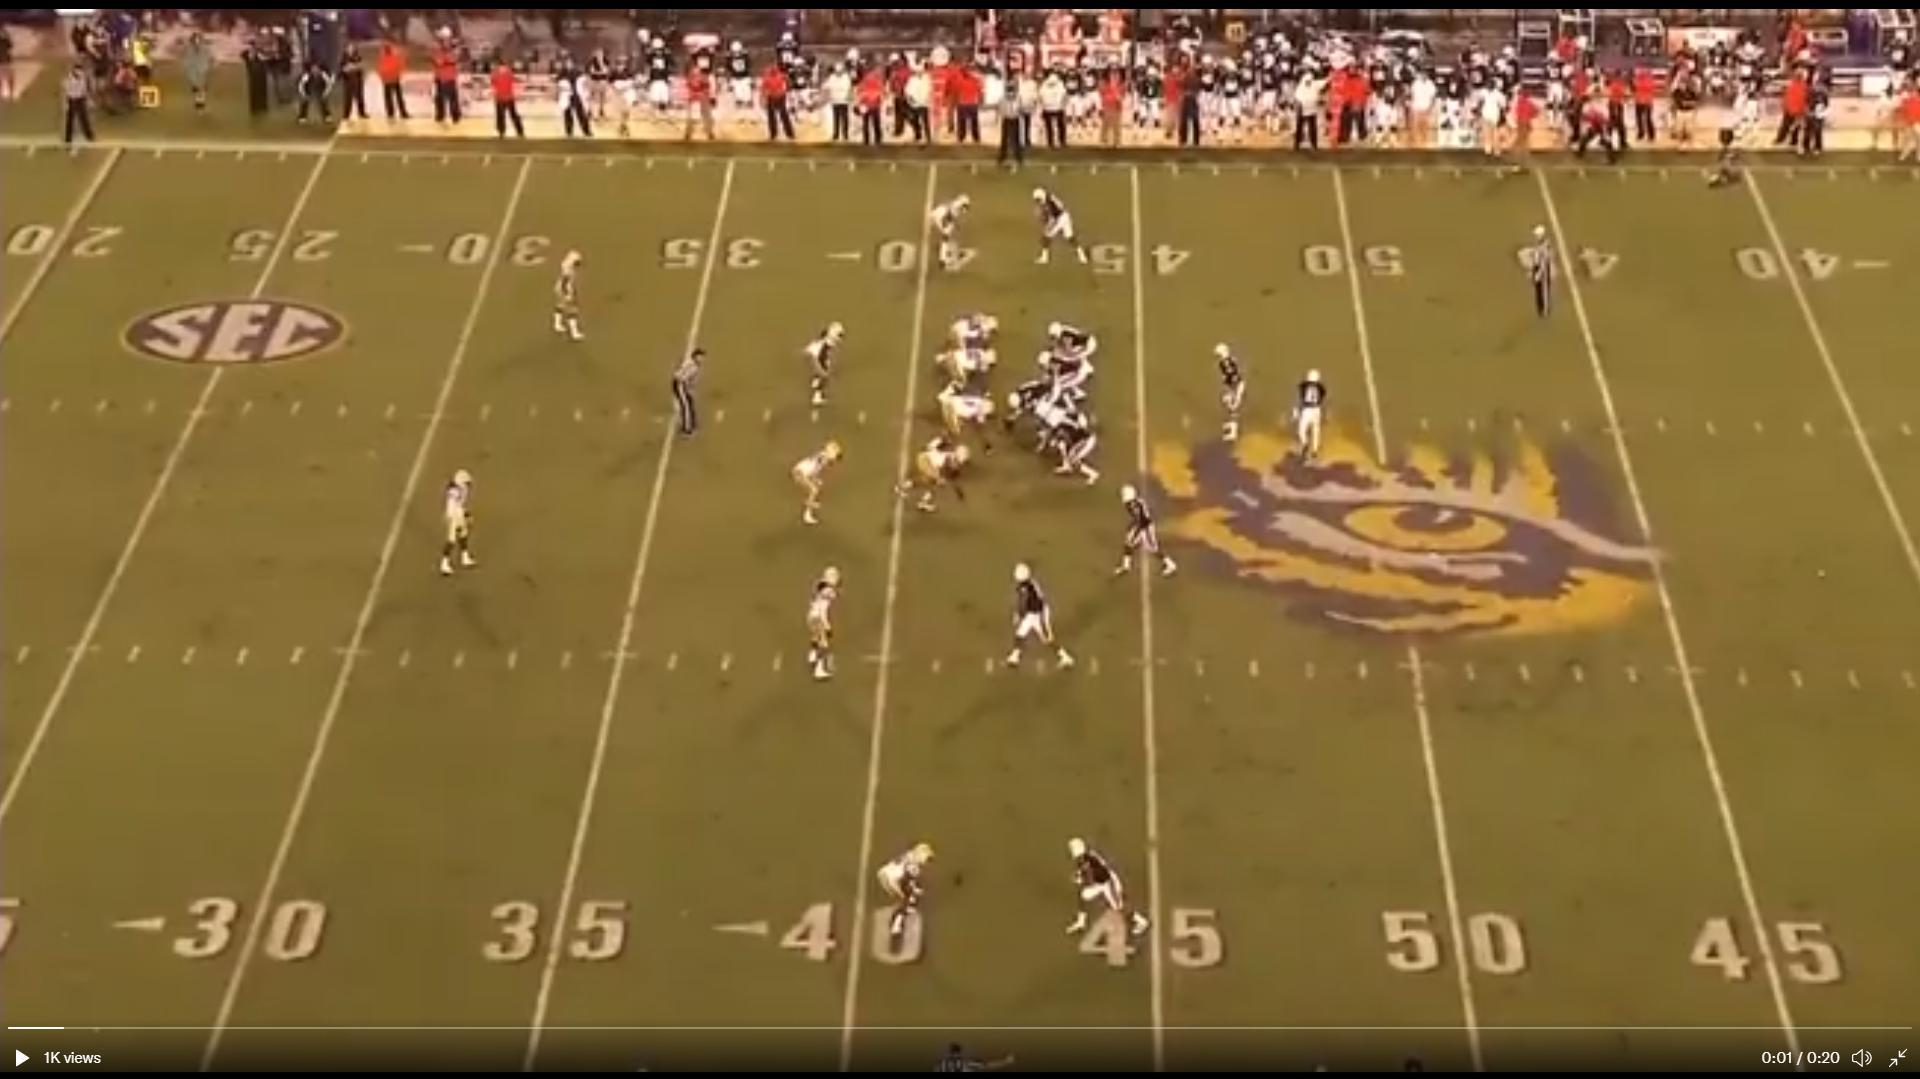player: (1058, 835, 1149, 953), (1003, 557, 1081, 674), (1115, 479, 1178, 581), (803, 564, 853, 685), (1030, 184, 1096, 274), (907, 435, 979, 516), (875, 840, 935, 937), (434, 468, 481, 584), (1286, 364, 1332, 472), (1041, 416, 1106, 492), (793, 442, 847, 532), (925, 188, 977, 277), (547, 245, 591, 348), (805, 319, 852, 412), (1215, 338, 1253, 448), (939, 341, 998, 407), (934, 393, 995, 455), (1002, 377, 1066, 433), (1037, 345, 1093, 401), (1033, 401, 1090, 454), (942, 309, 1000, 357), (1046, 318, 1099, 358)
ref: (989, 72, 1047, 177), (668, 345, 710, 444), (1523, 217, 1560, 323), (59, 63, 102, 149)
